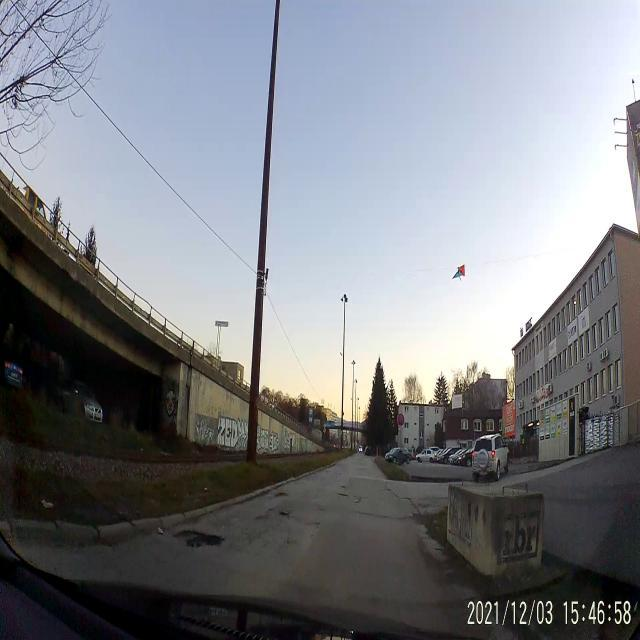Pothole: (176, 526, 226, 553), (276, 505, 293, 520)
